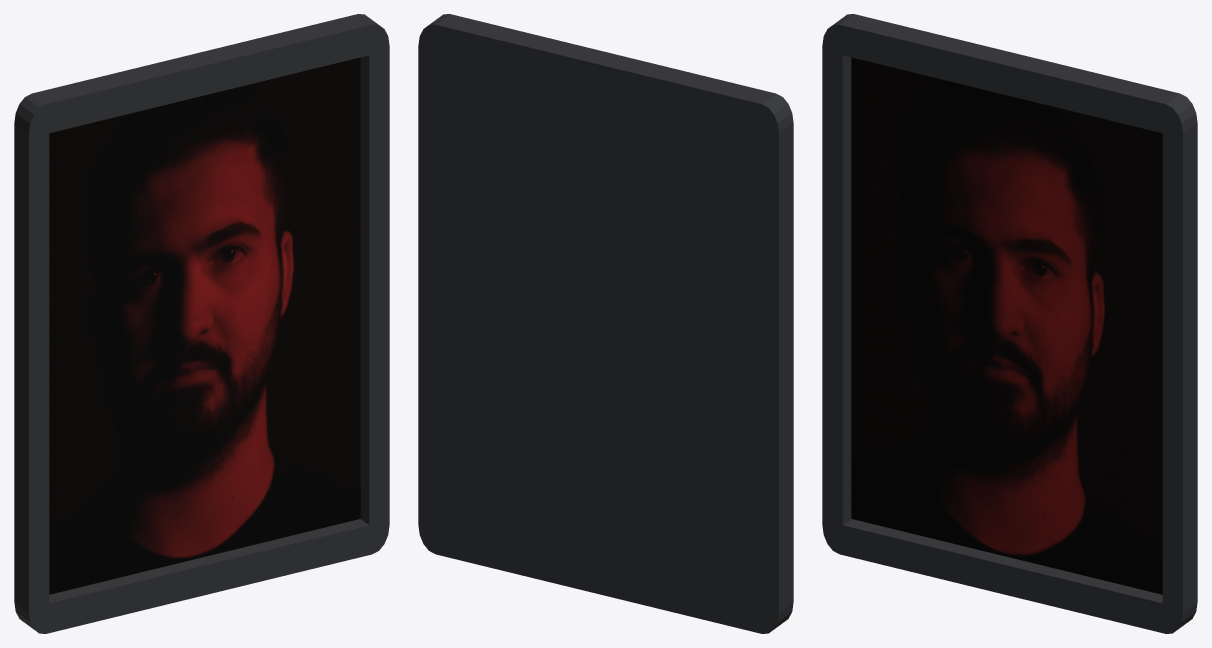
Rendered from BilderrahmenAssetCinema.fbx.
3 renders of one model, left to right at view 1: azimuth 30°, elevation 25°; view 2: azimuth 150°, elevation 25°; view 3: azimuth 330°, elevation 25°, orthographic.
Parts seen in each view (by area): view 1: Cube.001, Cube; view 2: Cube; view 3: Cube.001, Cube.
Boxes of the visible parts, box(x1,y1,x2,y2) form: Cube.001: box(49, 57, 360, 594); Cube: box(14, 14, 389, 633); Cube: box(418, 14, 793, 633); Cube.001: box(851, 57, 1162, 594); Cube: box(822, 14, 1197, 633).
Bounding box in the file's own units: 143 × 200 × 9.95.
